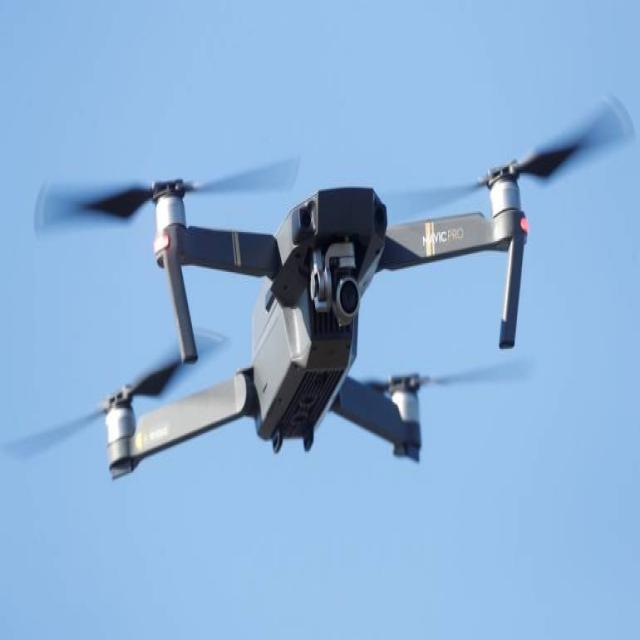drone: (38, 126, 592, 484)
